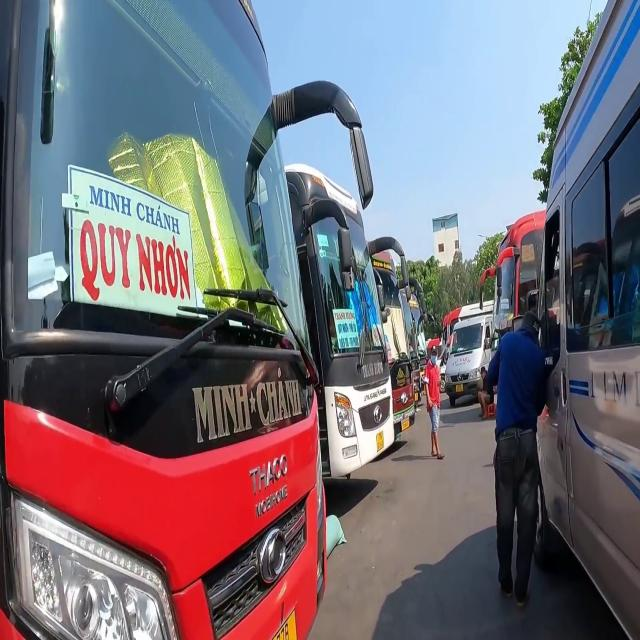bien_vang: (375, 430, 384, 452)
